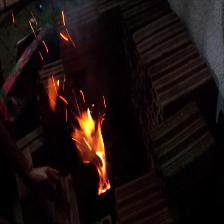fire: (31, 53, 140, 206)
